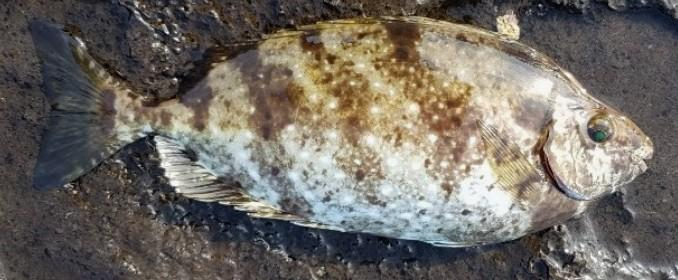fish: (35, 17, 653, 246)
